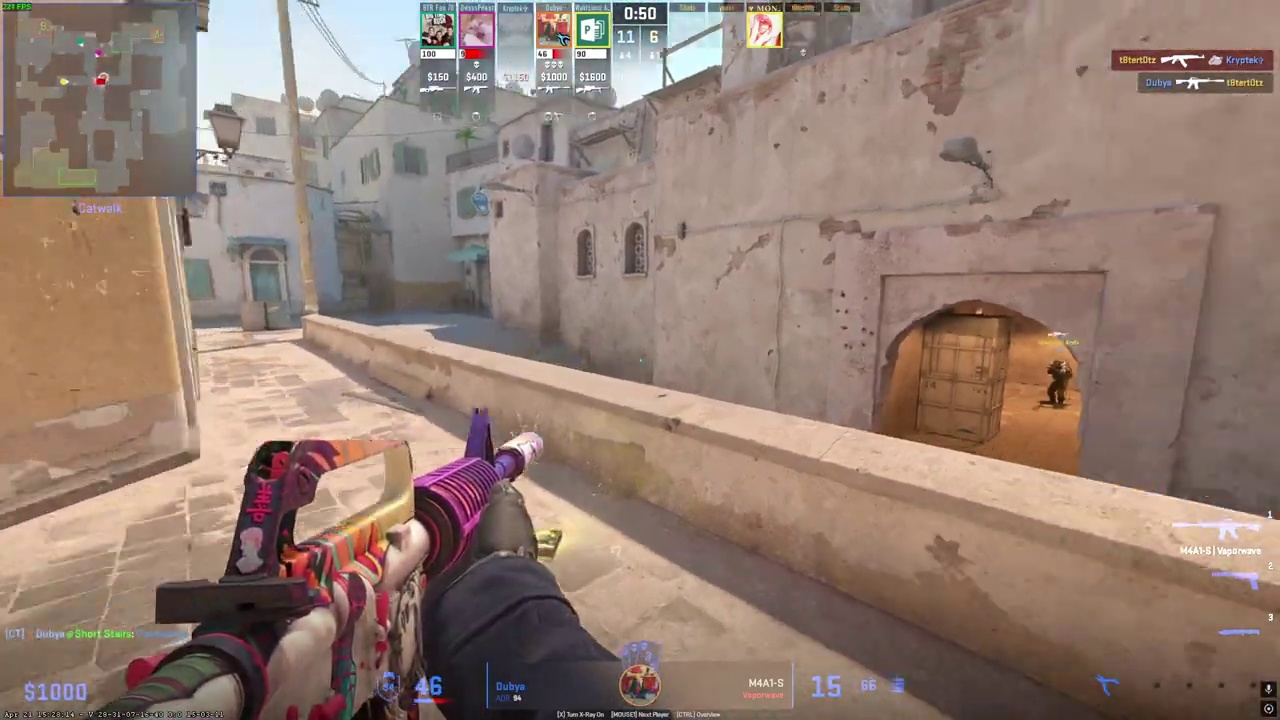CT: (1047, 359, 1070, 409)
